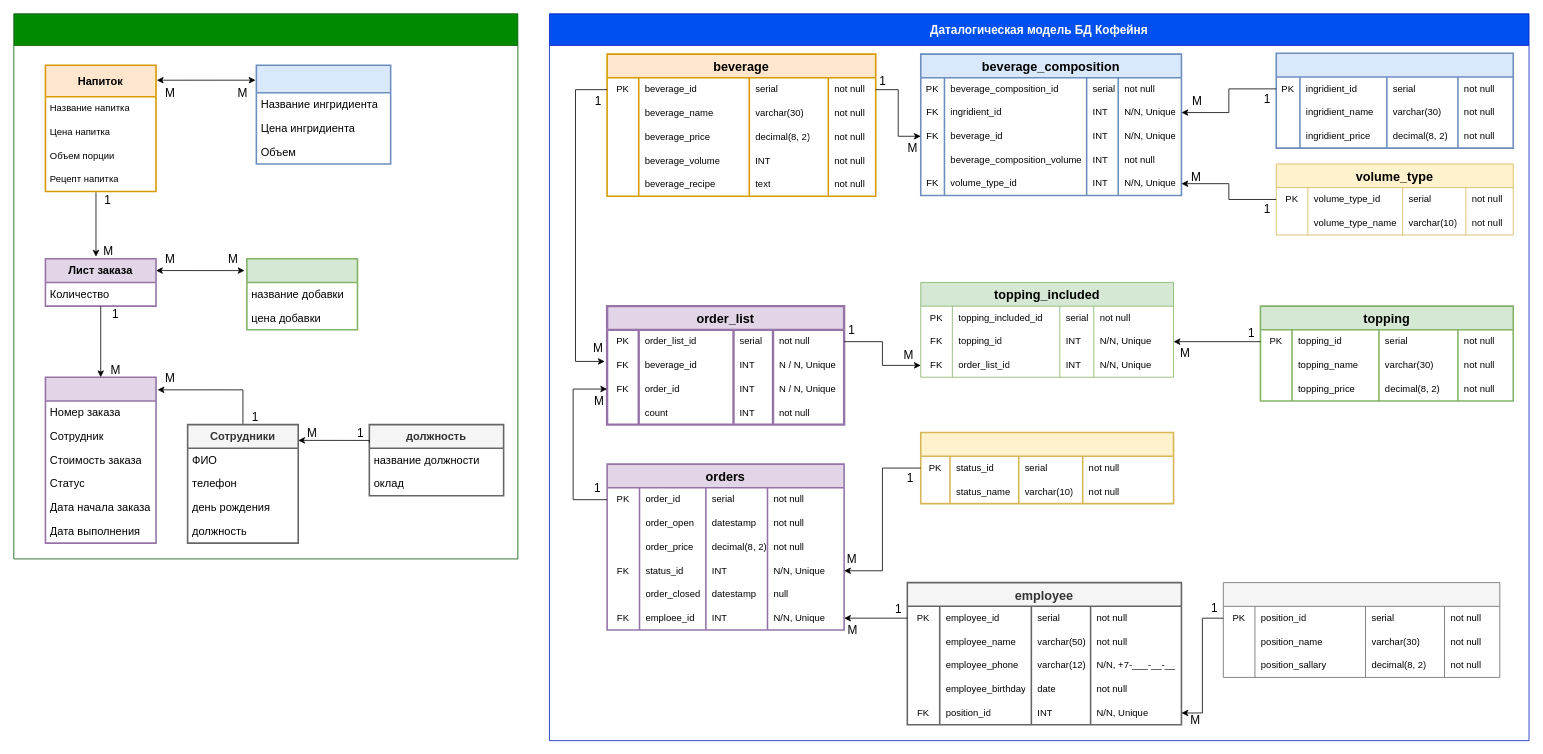
Some shapes in this 1543 by 754 pixel diagram are drawn without their labels. The shapes that lost their labels are listed below. From the top down, each one's box as (x1, y1, x2, y2) in pixels, then its label:
(255, 64, 391, 164): Ингридиенты
(1275, 52, 1514, 149): ingridients
(13, 13, 518, 559): Инфологическая модель БД Кофейня
(246, 258, 358, 330): Топпинг (добавки)
(44, 376, 156, 544): Заказы
(920, 431, 1174, 504): order_status
(1223, 582, 1500, 677): employee_position
